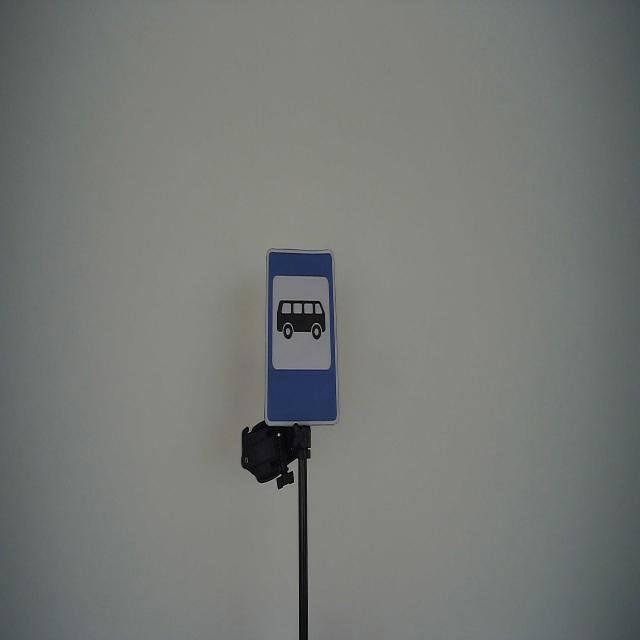bus_stop: (262, 249, 341, 427)
